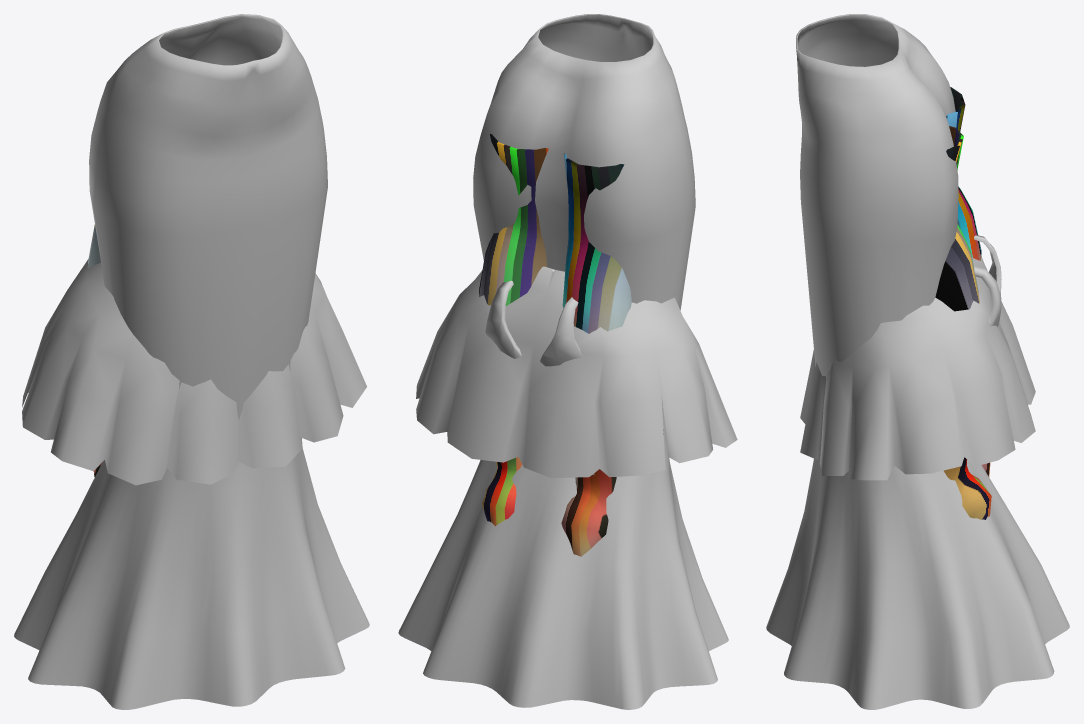
File: zhanshi.FBX
The picture shows the model from 3 angles, left to right: view 1: azimuth 30°, elevation 25°; view 2: azimuth 150°, elevation 25°; view 3: azimuth 270°, elevation 25°; orthographic projection. The views are drawn at different scales.
Parts seen in each view (by area): view 1: x5, x8; view 2: x5, x8, xie13, s5; view 3: x5, x8, xie13, s5.
Part boxes in pixels (x1=…): x5: x1=14, y1=14, x2=369, y2=709; x8: x1=22, y1=259, x2=366, y2=485; x5: x1=398, y1=14, x2=728, y2=709; x8: x1=416, y1=266, x2=737, y2=478; xie13: x1=479, y1=133, x2=631, y2=556; s5: x1=485, y1=280, x2=582, y2=366; x5: x1=766, y1=14, x2=1069, y2=709; x8: x1=800, y1=256, x2=1035, y2=480; xie13: x1=935, y1=87, x2=991, y2=519; s5: x1=974, y1=235, x2=1001, y2=326.
Bounding box in the file's own units: 48.74 × 93.15 × 42.85.
